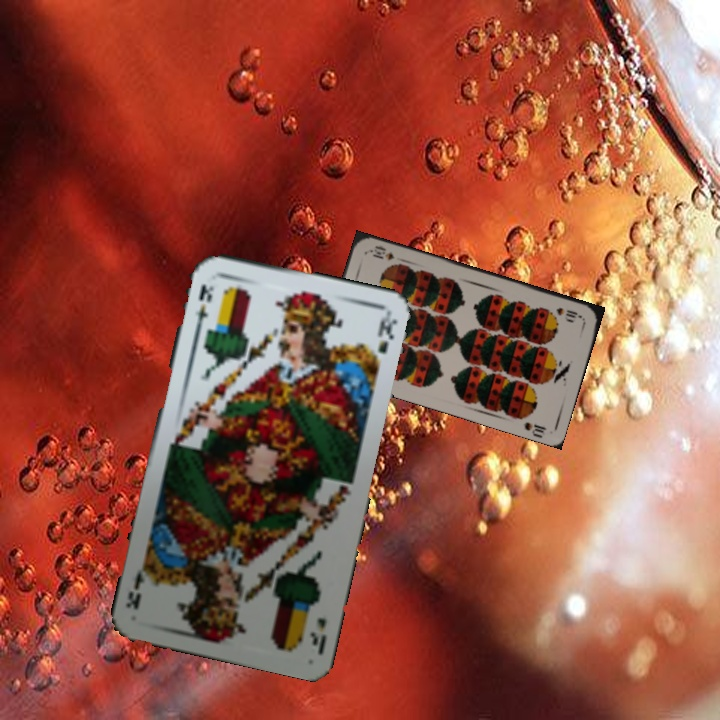EK: (191, 279, 216, 332), (305, 613, 329, 657)
S10: (552, 303, 585, 321)
